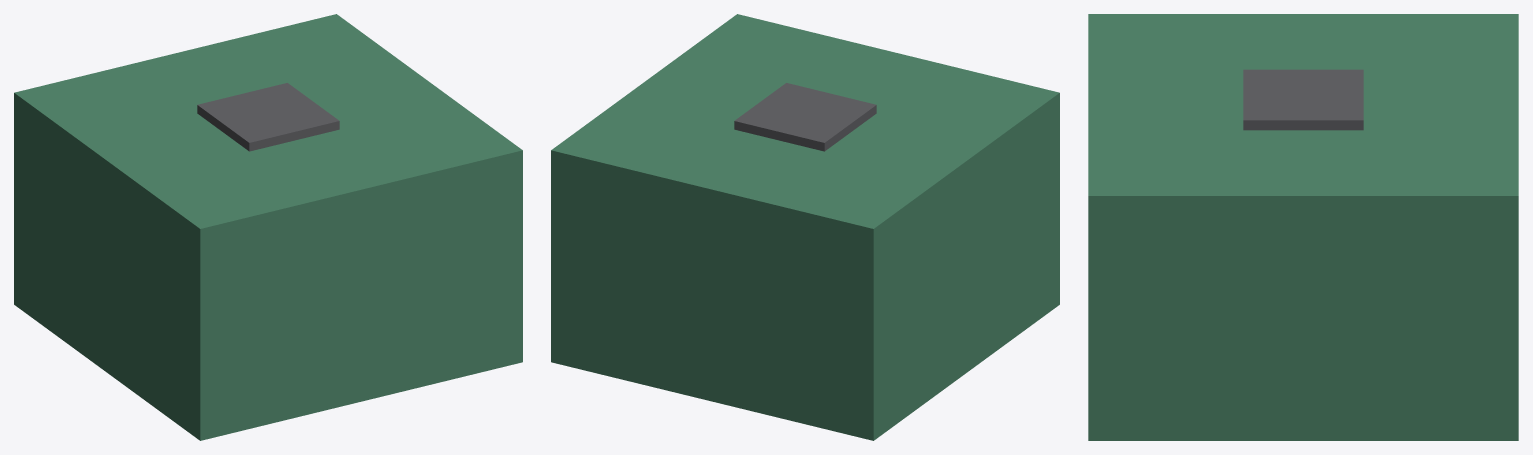
3 renders of one model, left to right at view 1: azimuth 30°, elevation 25°; view 2: azimuth 150°, elevation 25°; view 3: azimuth 270°, elevation 25°, orthographic. The views are drawn at different scales.
Visible parts, largest first — view 1: l298n-pcb, l298n-ic; view 2: l298n-pcb, l298n-ic; view 3: l298n-pcb, l298n-ic.
Part boxes in pixels (x1,y1,x2,y2): l298n-pcb: [14, 14, 522, 440]; l298n-ic: [197, 83, 339, 151]; l298n-pcb: [551, 14, 1059, 440]; l298n-ic: [734, 83, 876, 151]; l298n-pcb: [1088, 14, 1518, 440]; l298n-ic: [1243, 69, 1363, 130].
Size of the model in its own units: 0.043 by 0.0281 by 0.043.
